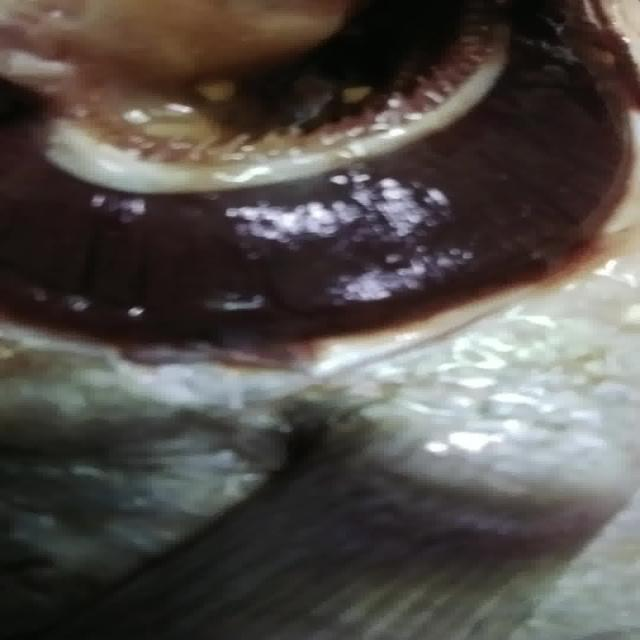Non-Fresh: (24, 18, 626, 381)
